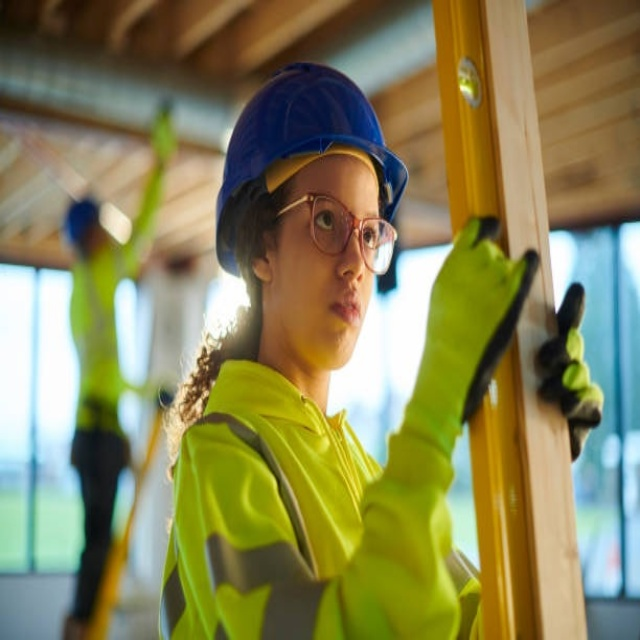Gafas: (272, 188, 397, 279)
Guantes: (402, 210, 541, 466), (543, 276, 604, 458)
Sin_mascara: (310, 284, 368, 351)
